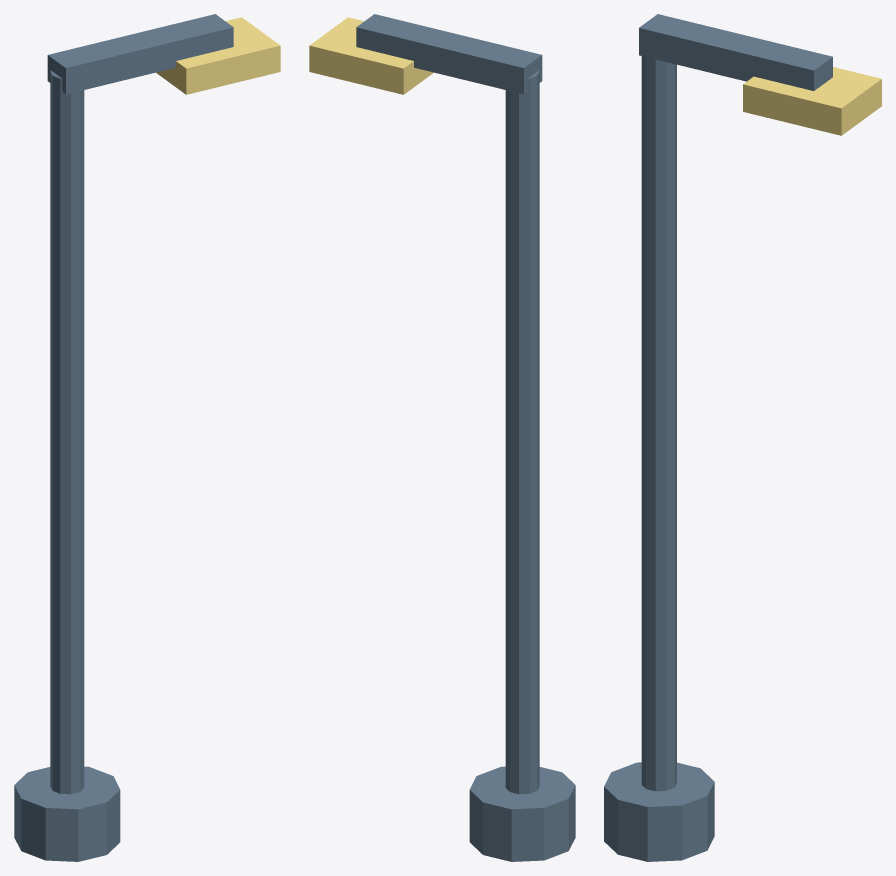
Rendered from 12_street_lamp.glb.
3 renders of one model, left to right at view 1: azimuth 30°, elevation 25°; view 2: azimuth 150°, elevation 25°; view 3: azimuth 330°, elevation 25°, orthographic. The views are drawn at different scales.
Visible parts, largest first — view 1: 12_street_lamp; view 2: 12_street_lamp; view 3: 12_street_lamp.
Part boxes in pixels (x1,y1,x2,y2): 12_street_lamp: (14, 14, 280, 861); 12_street_lamp: (309, 14, 575, 861); 12_street_lamp: (604, 14, 881, 861).
Size of the model in its own units: 1.14 by 3.56 by 0.4185.
